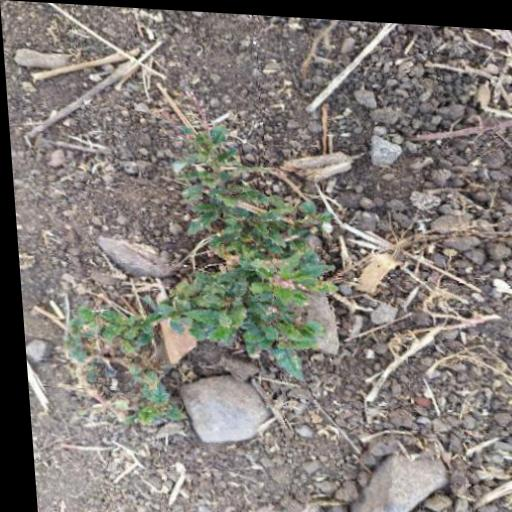weed: (55, 121, 316, 391)
